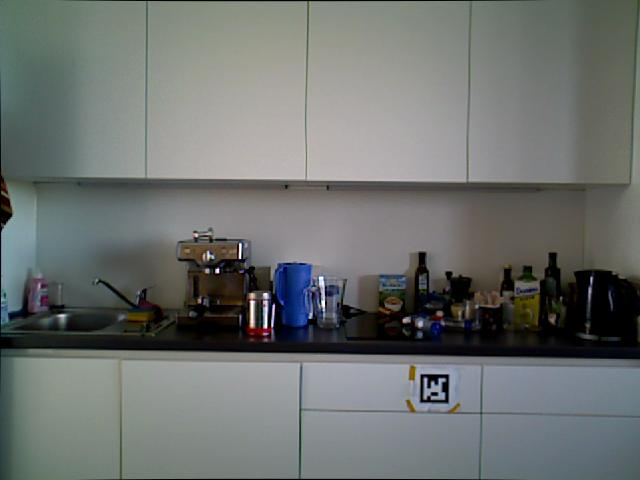bench: (514, 264, 540, 330), (20, 268, 53, 316), (541, 249, 563, 308), (413, 251, 429, 313), (499, 264, 514, 328), (0, 282, 15, 330)
bird: (383, 294, 405, 313)
couch: (16, 305, 133, 335)
hair drier: (307, 274, 347, 329)
handbag: (273, 261, 314, 327), (244, 290, 275, 337), (474, 297, 506, 332), (455, 298, 481, 332)
